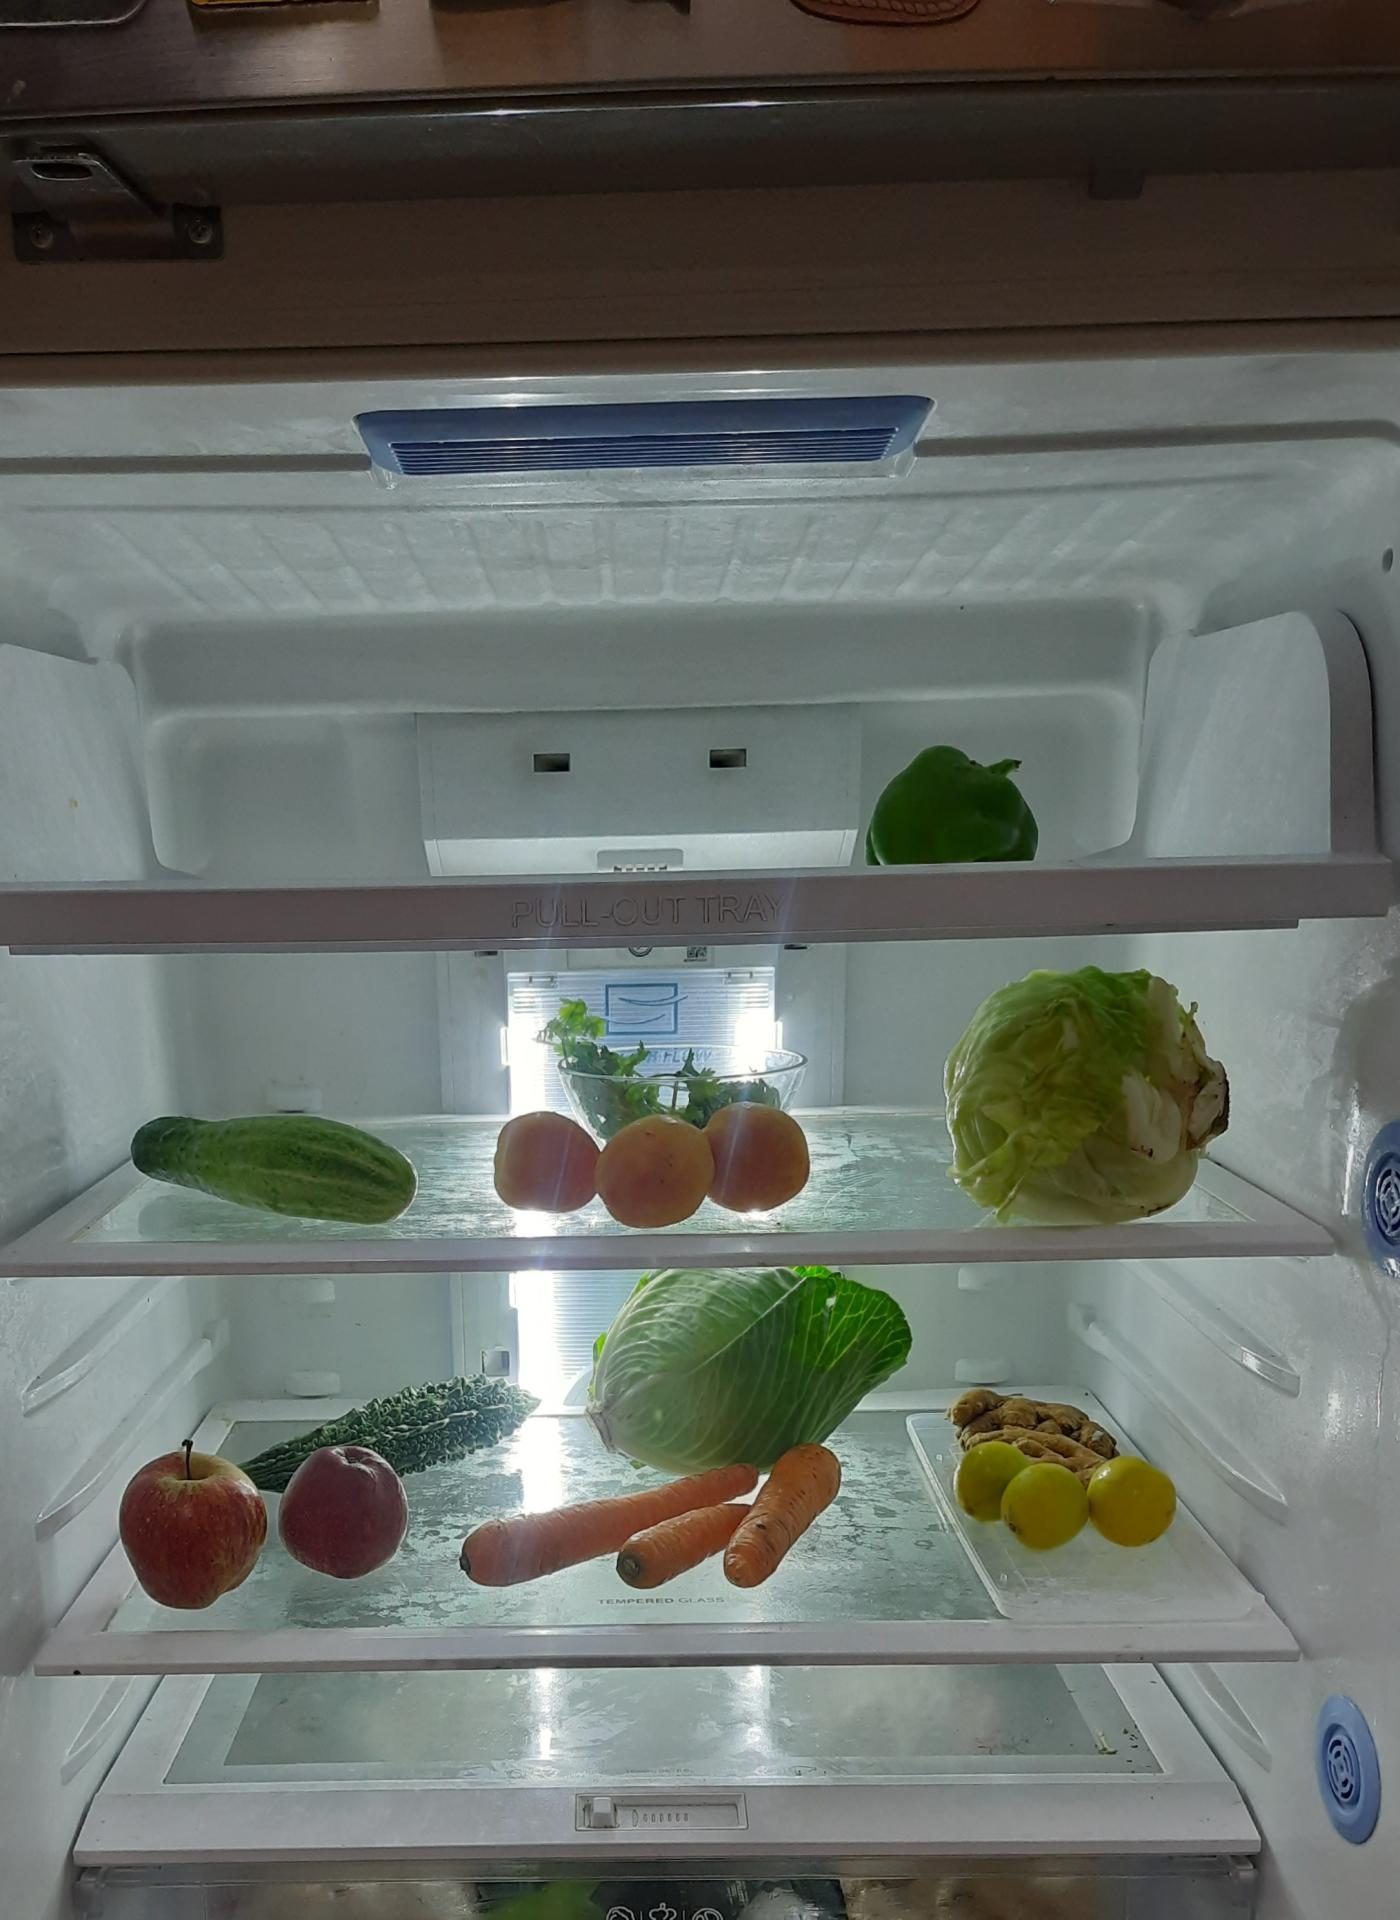apple: (118, 1433, 268, 1610), (274, 1434, 410, 1579)
bitter gourd: (219, 1371, 537, 1485)
cabbage: (578, 1266, 911, 1467)
capsicum: (869, 739, 1050, 866)
carrots: (444, 1455, 841, 1611)
coriander: (537, 1006, 804, 1122)
cucumber: (121, 1100, 426, 1219)
ginger: (950, 1385, 1124, 1462)
lemon: (957, 1424, 1178, 1559)
lettuce: (945, 967, 1227, 1213)
tomato: (505, 1093, 813, 1218)
